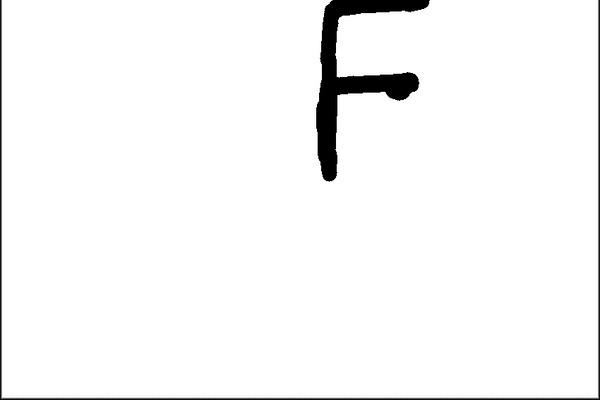F: (309, 0, 440, 185)
